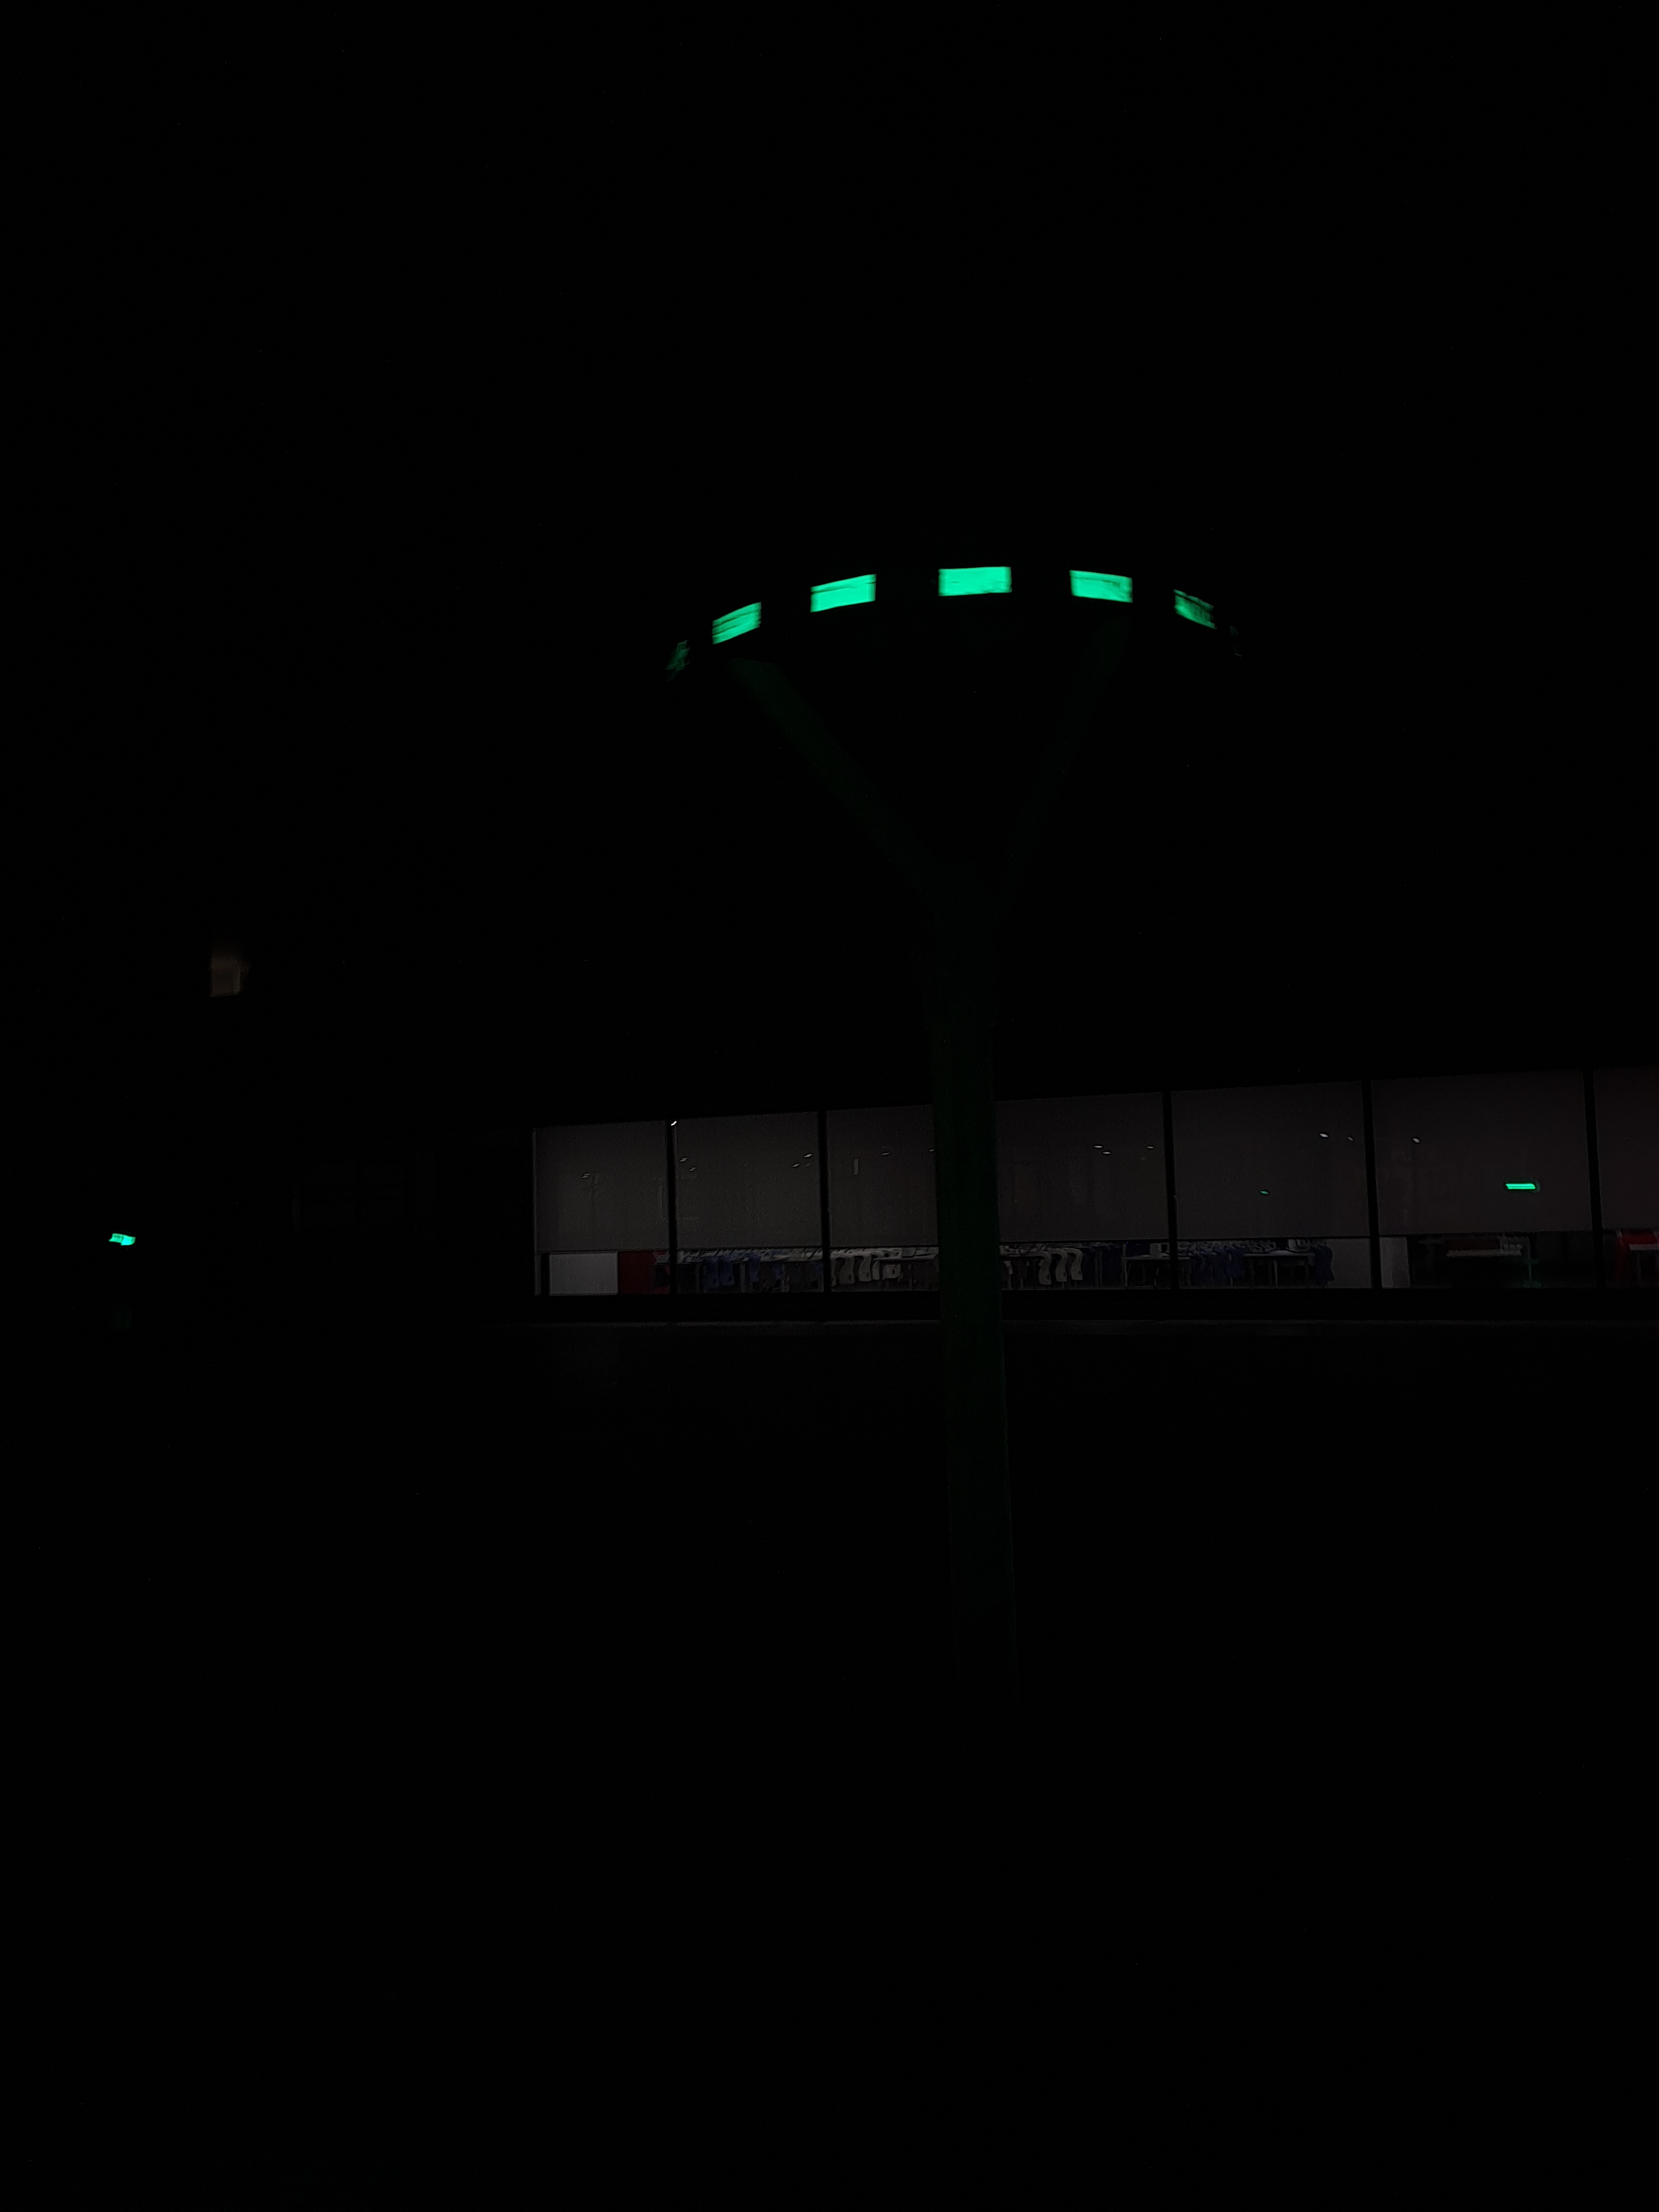hoop: (697, 564, 1227, 650)
